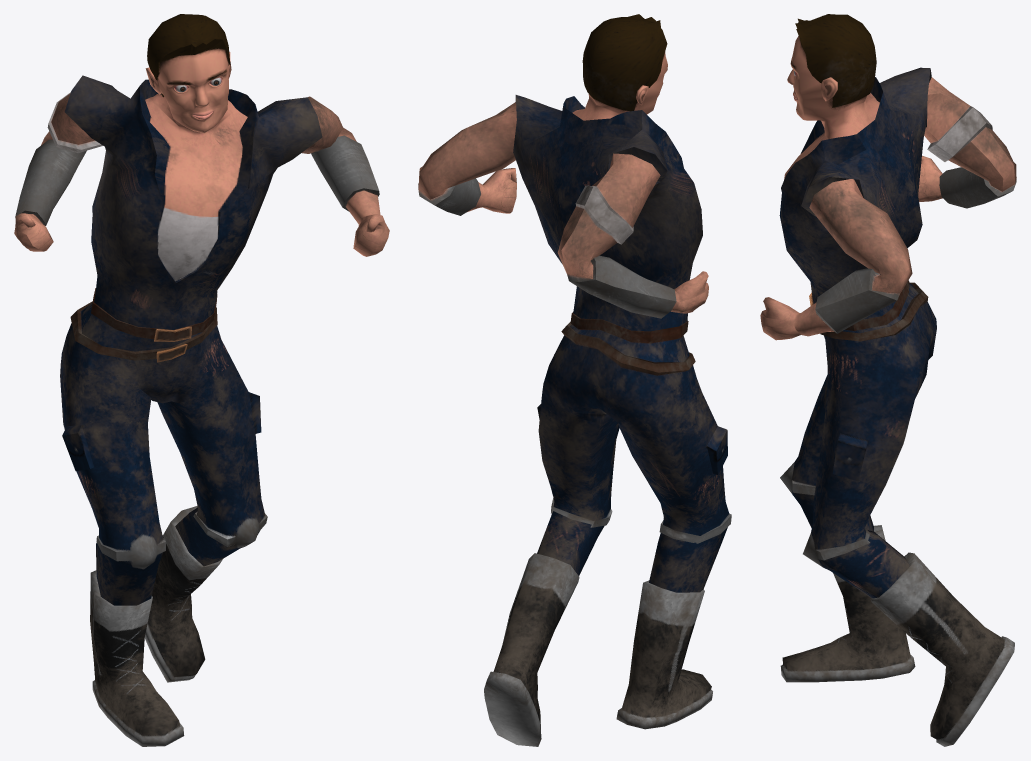
Rendered from Anim_ataque_d3_jugador.0038.obj.
The picture shows the model from 3 angles, left to right: view 1: azimuth 30°, elevation 25°; view 2: azimuth 150°, elevation 25°; view 3: azimuth 270°, elevation 25°; orthographic projection. The views are drawn at different scales.
Visible parts, largest first — view 1: polySurface1; view 2: polySurface1; view 3: polySurface1.
Boxes of the visible parts, <box> form: polySurface1: <box>14,14,389,746</box>; polySurface1: <box>418,14,731,746</box>; polySurface1: <box>760,14,1016,746</box>.
Size of the model in its own units: 4.4 by 9.52 by 3.15.
